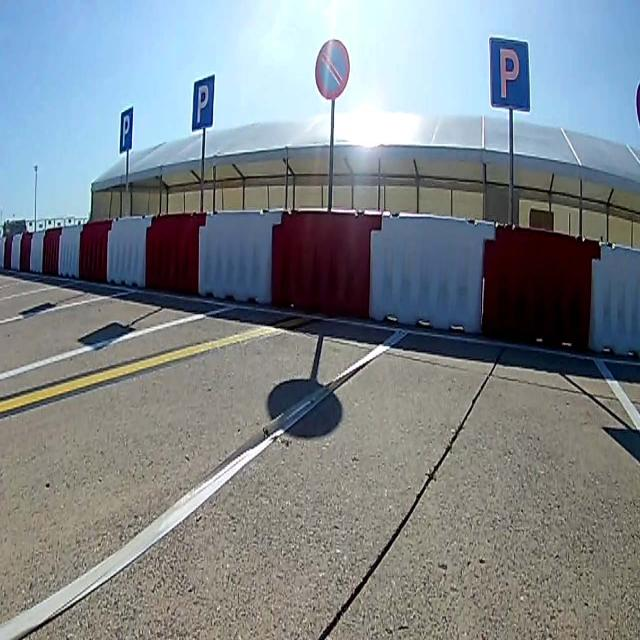park: (491, 36, 531, 113), (192, 76, 215, 130), (120, 109, 132, 151)
parkyasak: (315, 41, 349, 99)
